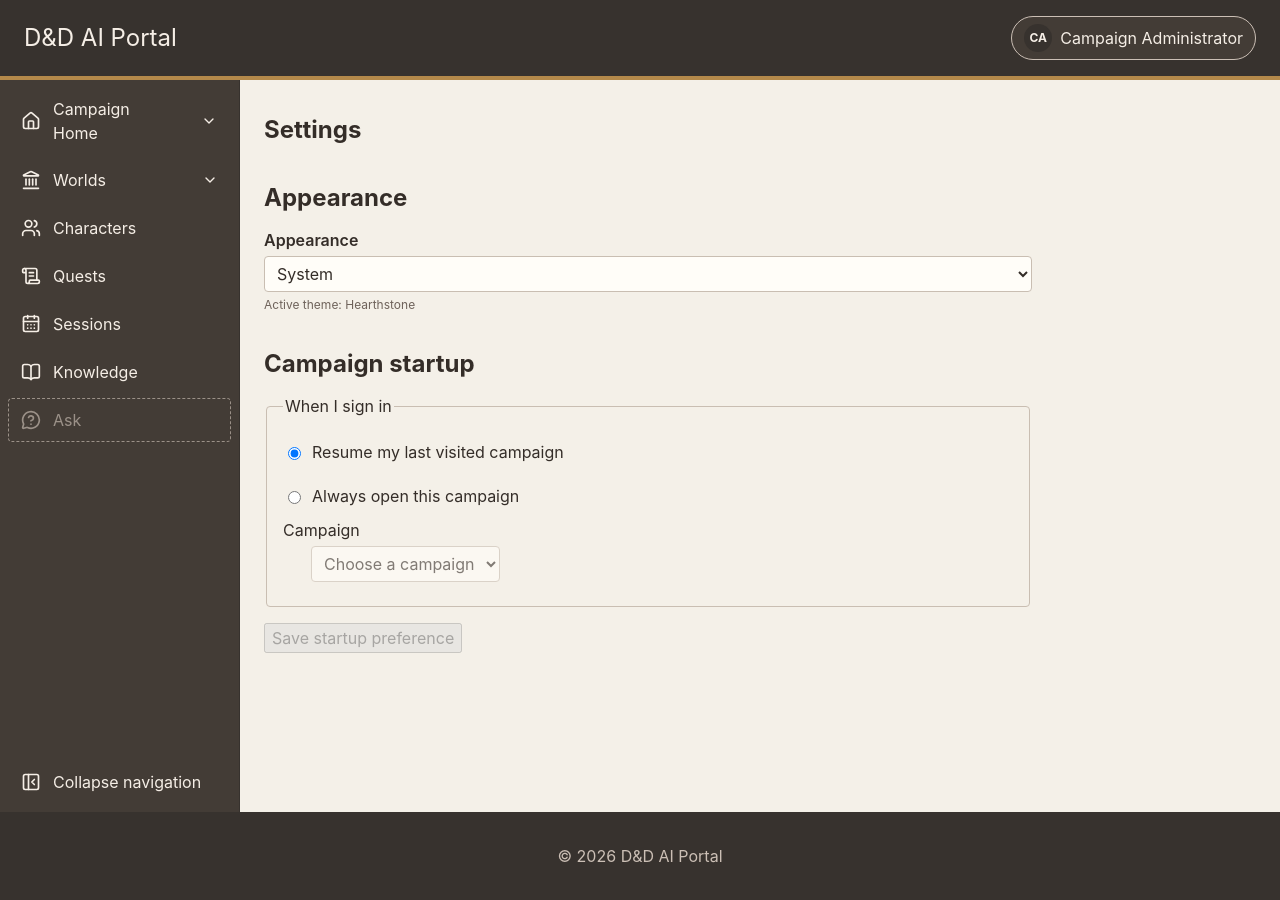
it: saved startup preference reaches the shared session › keeps the success indication visible after the refresh (no page unmount)
The image size is (1280, 900).
Expected: the heading "Settings" is shown, x1=264 y1=115 x2=361 y2=144
Click the radio button labelled "Always open this campaign". click: (294, 498)
box: x1=288 y1=491 x2=301 y2=504
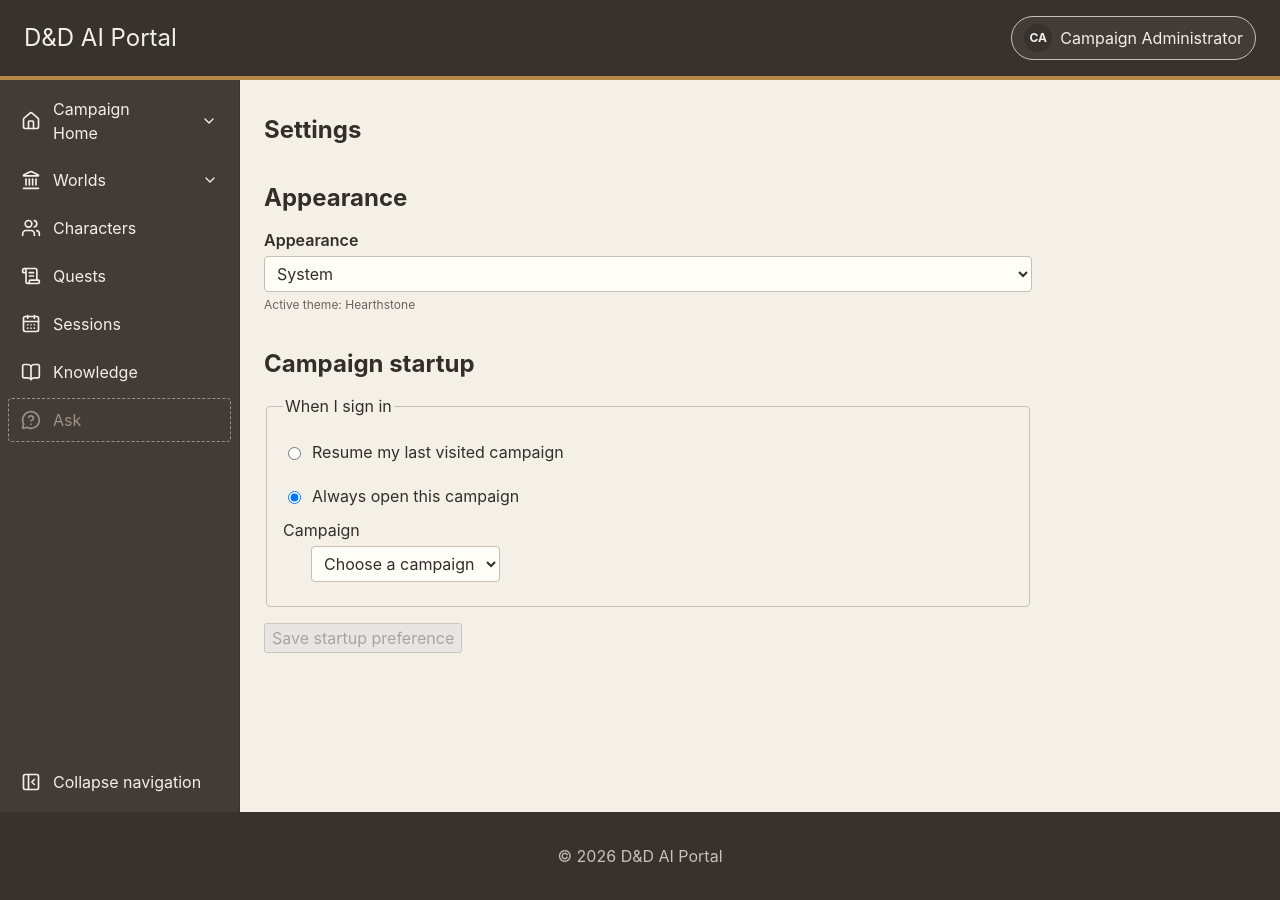
Select "Beta" in the dropdown labelled "Campaign". click: (406, 564)
box: x1=311 y1=546 x2=500 y2=582
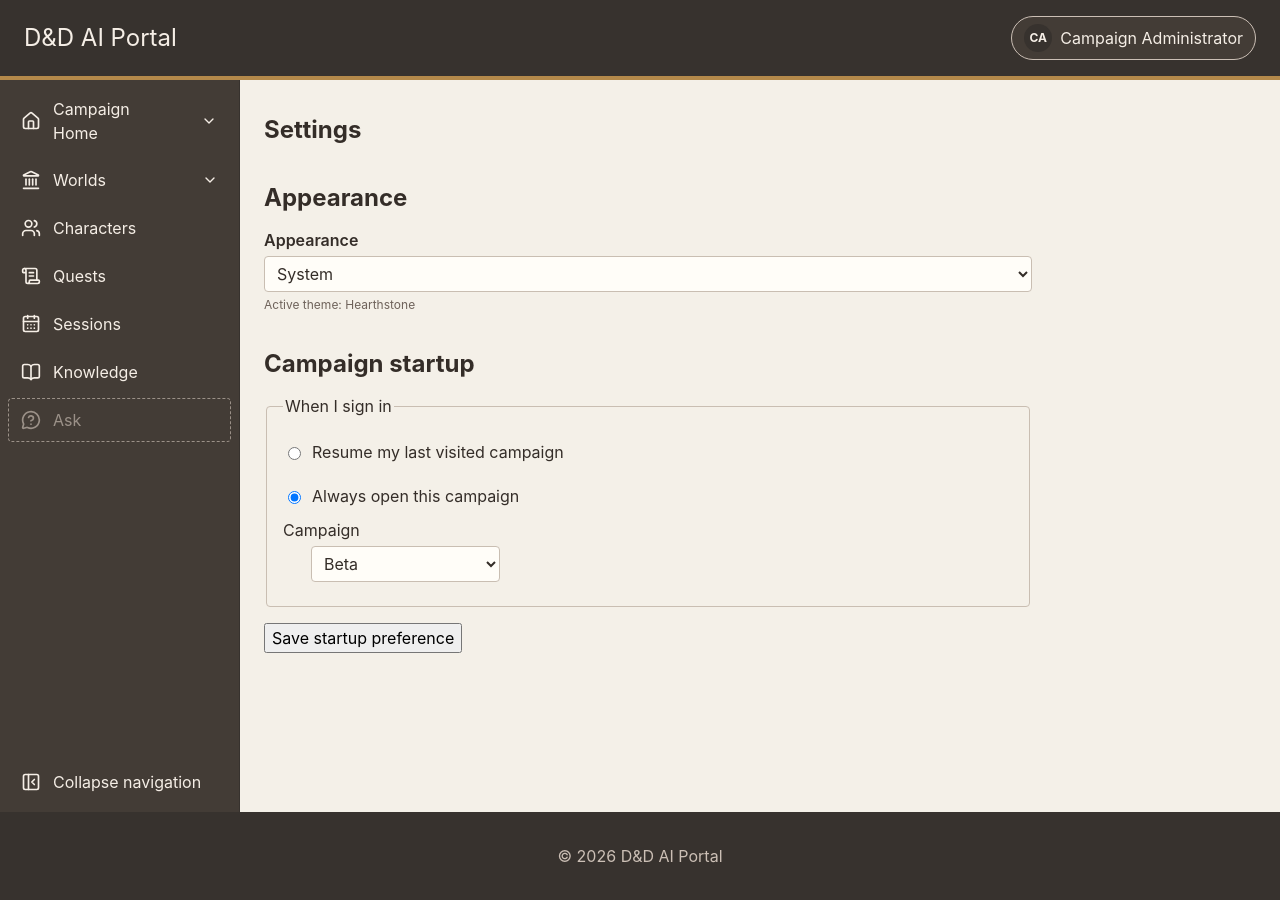
Click the button "Save startup preference". click: (363, 638)
box: x1=264 y1=623 x2=462 y2=653
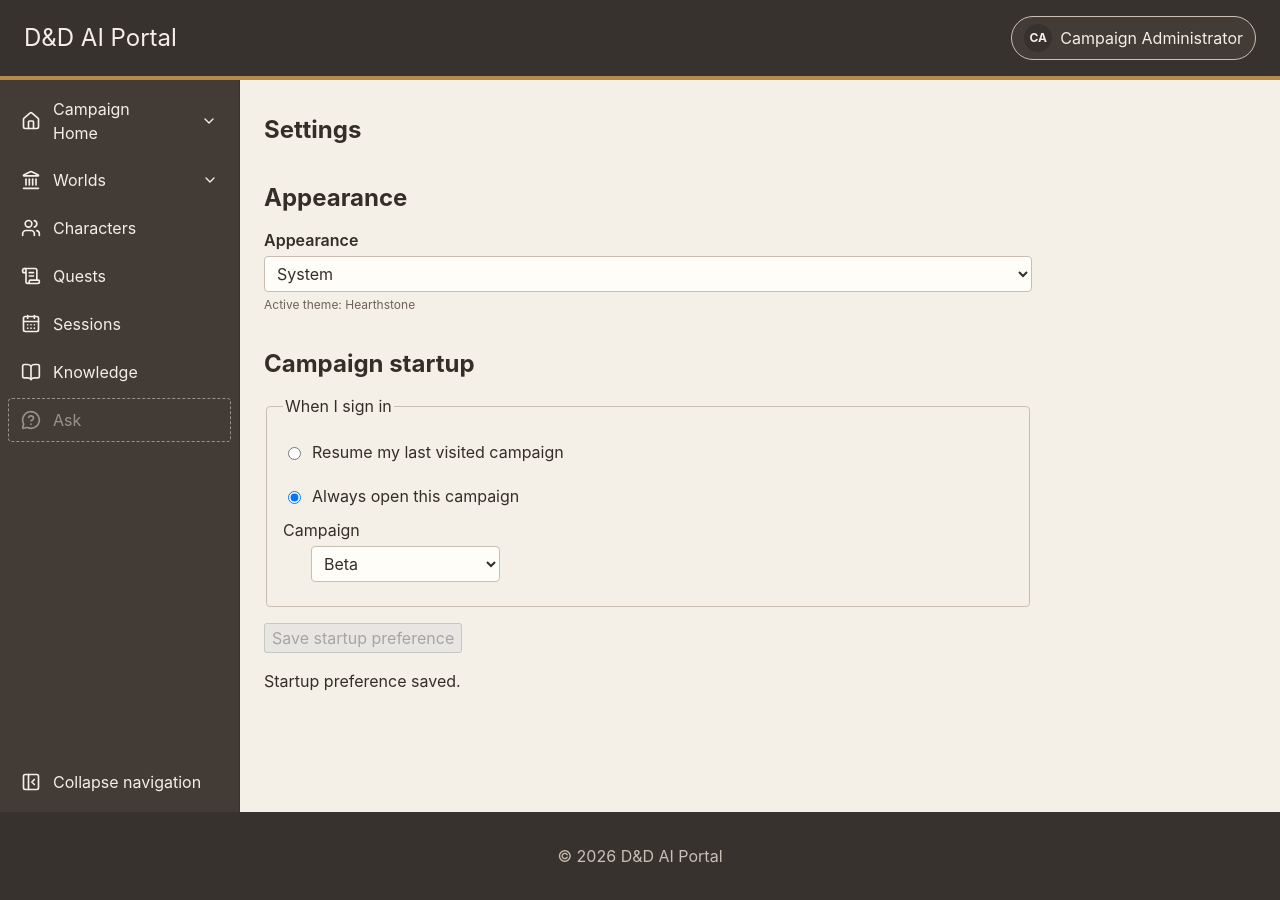
Expected: the radio button labelled "Always open this campaign" is checked, x1=288 y1=491 x2=301 y2=504
Expected: the message reads "Startup preference saved.", x1=264 y1=671 x2=461 y2=691
Expected: the button "Save startup preference" is disabled, x1=264 y1=623 x2=462 y2=653
